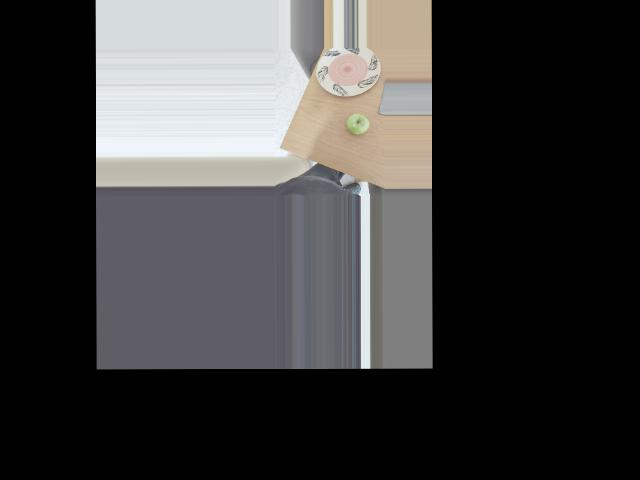apple: (343, 112, 369, 139)
